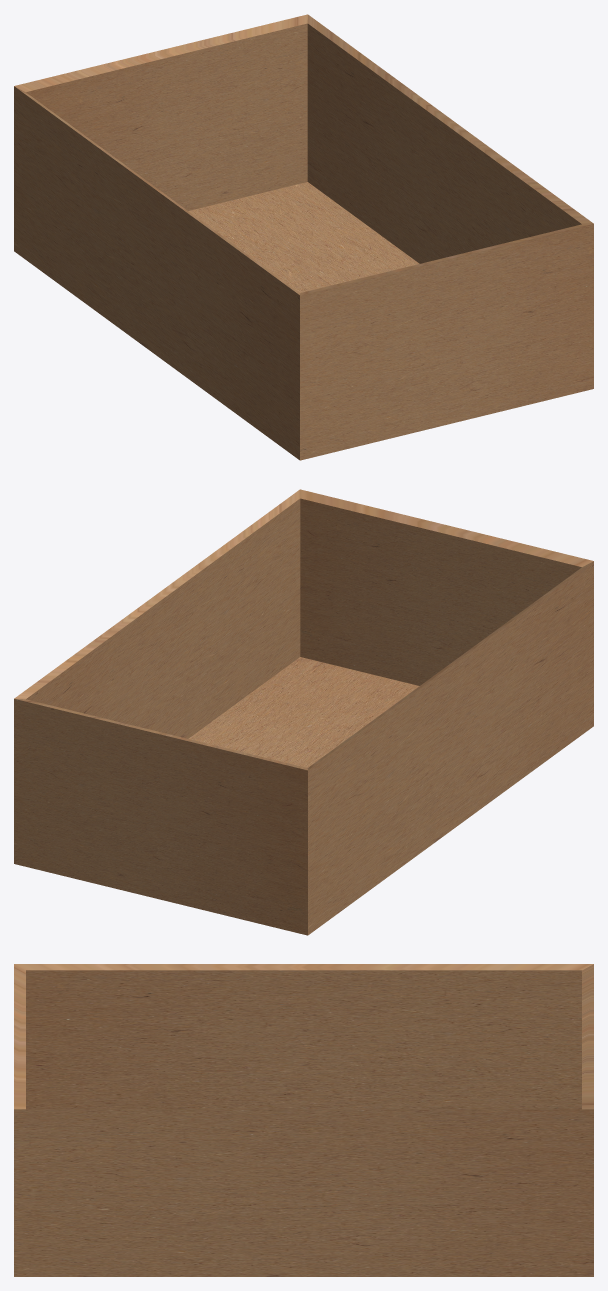
The picture shows the model from 3 angles, top to bottom: view 1: azimuth 30°, elevation 25°; view 2: azimuth 150°, elevation 25°; view 3: azimuth 270°, elevation 25°; orthographic projection.
Visible parts, largest first — view 1: Cube; view 2: Cube; view 3: Cube.
Part boxes in pixels (x1,y1,x2,y2): Cube: (14, 14, 593, 460); Cube: (14, 489, 593, 935); Cube: (14, 964, 593, 1276).
Bounding box in the file's own units: 30.78 × 16.53 × 51.89.
Materials: 1 (1 with a texture image).
